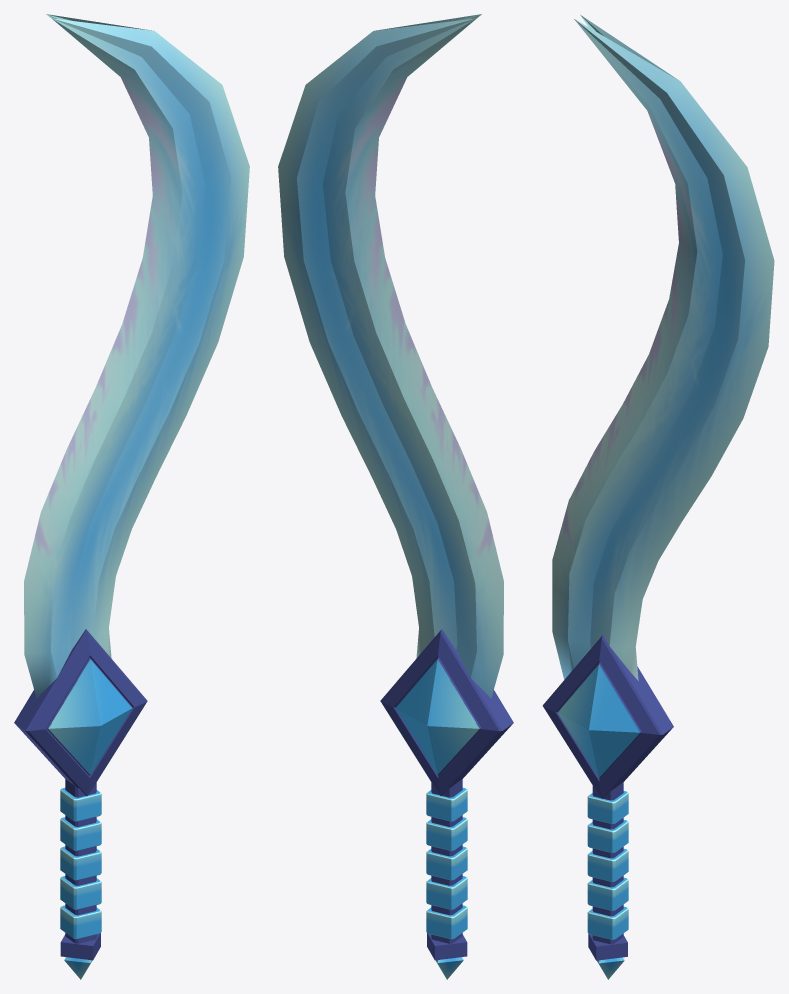
Rendered from Sword_Ice.glb.
3 renders of one model, left to right at view 1: azimuth 30°, elevation 25°; view 2: azimuth 150°, elevation 25°; view 3: azimuth 330°, elevation 25°, orthographic.
Visible parts, largest first — view 1: Plane.052, Plane.053, Sword_Ice_Knob; view 2: Plane.052, Plane.053, Sword_Ice_Knob; view 3: Plane.052, Plane.053, Sword_Ice_Knob.
Boxes of the visible parts, x1,y1,x2,y2 form: Plane.052: [24, 14, 249, 698]; Plane.053: [14, 629, 147, 795]; Sword_Ice_Knob: [60, 779, 101, 979]; Plane.052: [278, 14, 503, 698]; Plane.053: [380, 629, 513, 795]; Sword_Ice_Knob: [426, 779, 467, 979]; Plane.052: [552, 14, 774, 680]; Plane.053: [542, 635, 673, 798]; Sword_Ice_Knob: [587, 782, 628, 979].
Size of the model in its own units: 1.15 by 4.64 by 0.3412.
1 material, 1 textured.
